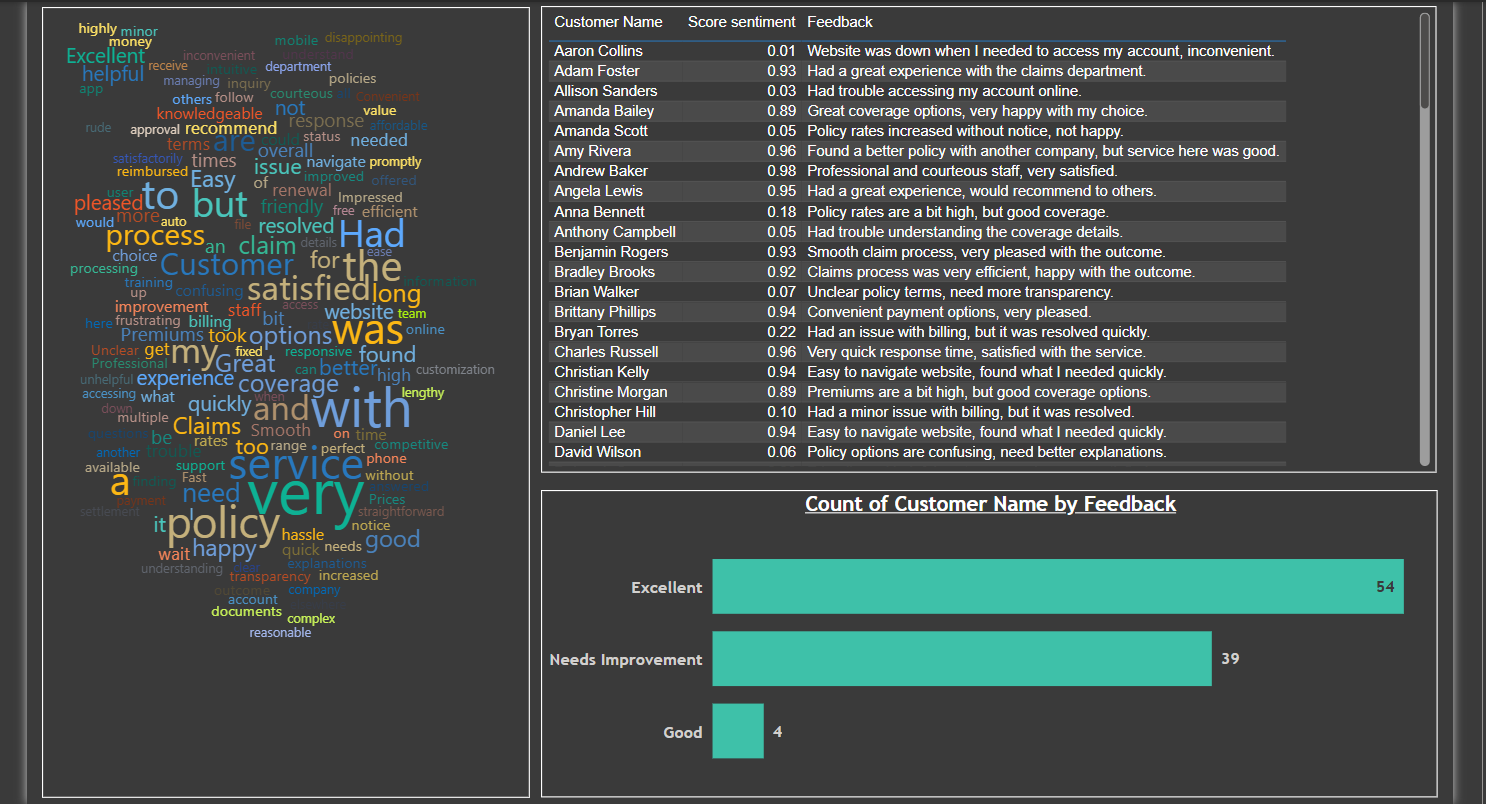

This screenshot's page, from the dashboard's own definition file:
{"tool":"powerbi","page":{"name":"Page 3","canvas":[1280,720],"ordinal":2},"visuals":[{"type":"WordCloud1447959067750","fields":{"Category":["Sheet1.Feedback"],"Values":["CountNonNull(Sheet1.Feedback)"]},"box":[13.5,4.5,438.1,710.1],"z":0},{"type":"barChart","title":"Count of Customer Name by Feedback","fields":{"Category":["Sheet1.Good/Improvement"],"Y":["CountNonNull(Sheet1.Customer Name)"]},"box":[461.4,438.1,805.3,275.6],"z":1000},{"type":"tableEx","fields":{"Values":["Sheet1.Customer Name","Sheet1.Score sentiment","Sheet1.Feedback"]},"box":[461.4,3.6,804.4,419.3],"z":2000}]}

Visuals, with their boxes on the page's 1280x720 design canvas (x1, y1, x2, y2). These are canvas units, not pixel positions in the 1486x804 screenshot, which may show the page scaled, cropped or inside an application window:
WordCloud1447959067750 - Sheet1.Feedback x CountNonNull(Sheet1.Feedback): 14,4,452,715
"Count of Customer Name by Feedback" barChart: 461,438,1267,714
tableEx - Sheet1.Customer Name x Sheet1.Score sentiment: 461,4,1266,423
